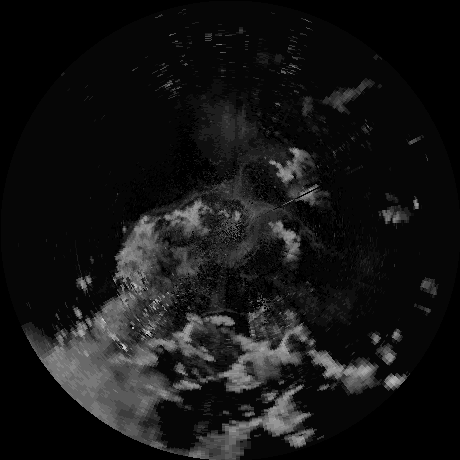frontgust: (156, 186, 230, 211), (276, 209, 324, 245)
